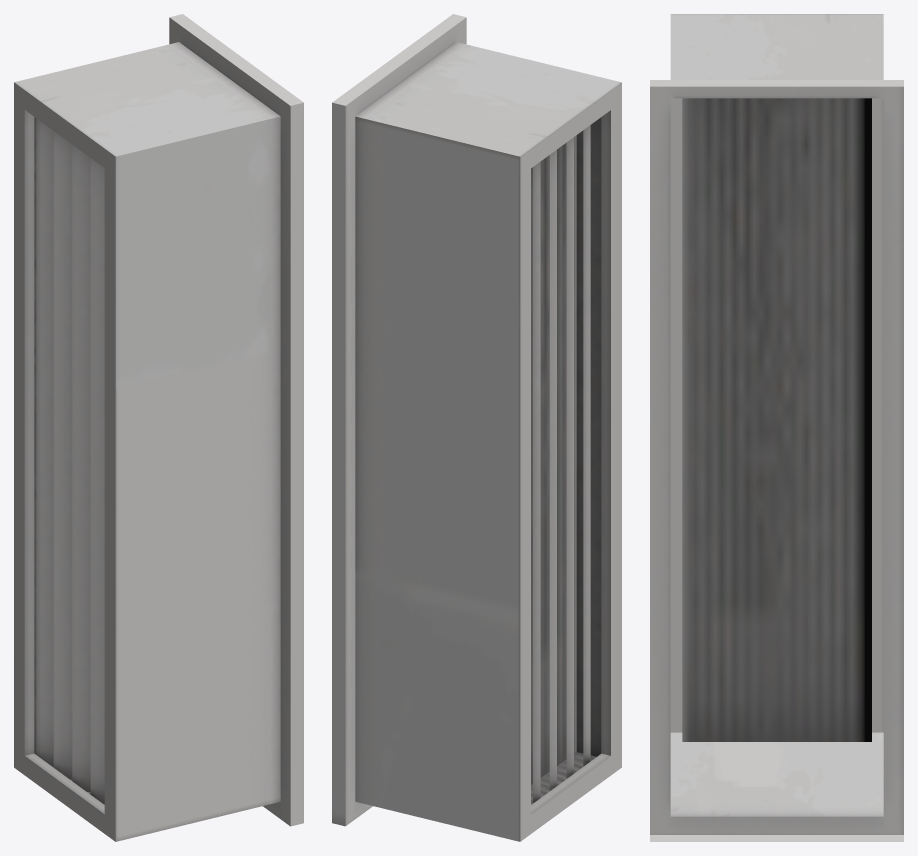
Rendered from props_spytech_vent_system_vent03.glb.
3 views of the same model, side by side, from view 1: azimuth 30°, elevation 25°; view 2: azimuth 150°, elevation 25°; view 3: azimuth 270°, elevation 25° (orthographic). The views are drawn at different scales.
Visible parts, largest first — view 1: models/props_spytech/vent_system_vent03; view 2: models/props_spytech/vent_system_vent03; view 3: models/props_spytech/vent_system_vent03.
Boxes of the visible parts, x1,y1,x2,y2 form: models/props_spytech/vent_system_vent03: [14, 14, 303, 841]; models/props_spytech/vent_system_vent03: [332, 14, 621, 841]; models/props_spytech/vent_system_vent03: [650, 14, 903, 841].
Bounding box in the file's own units: 17.68 × 68.2 × 20.78.
1 material, 1 textured.
